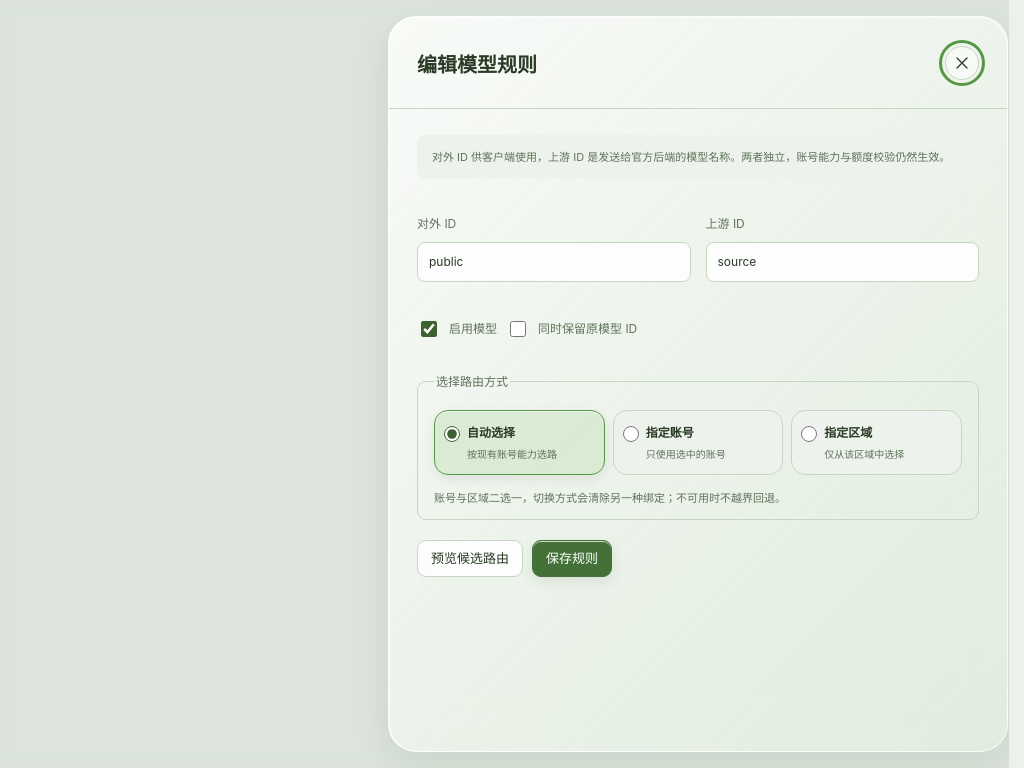
independent model routes › does not accept a save without a new server revision
The width and height of the screenshot is (1024, 768).
Click the button "保存规则" at (572, 558), box [532,540,612,577]
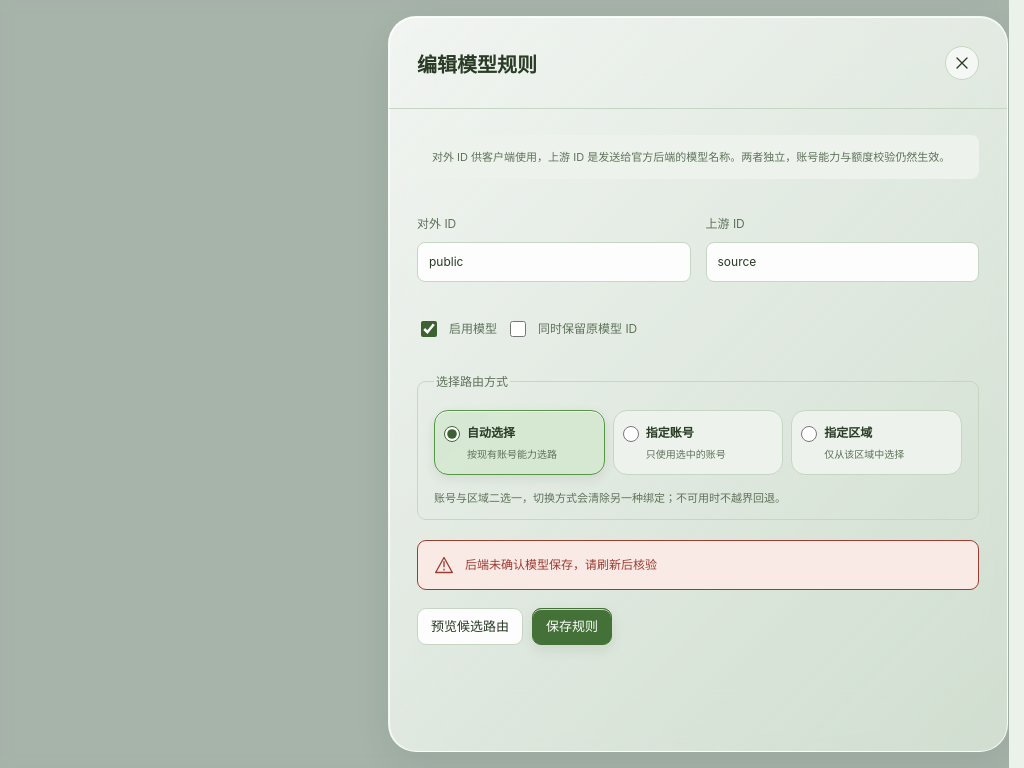
Now the text "后端未确认模型保存，请刷新后核验" is shown, box [465,555,657,574]
